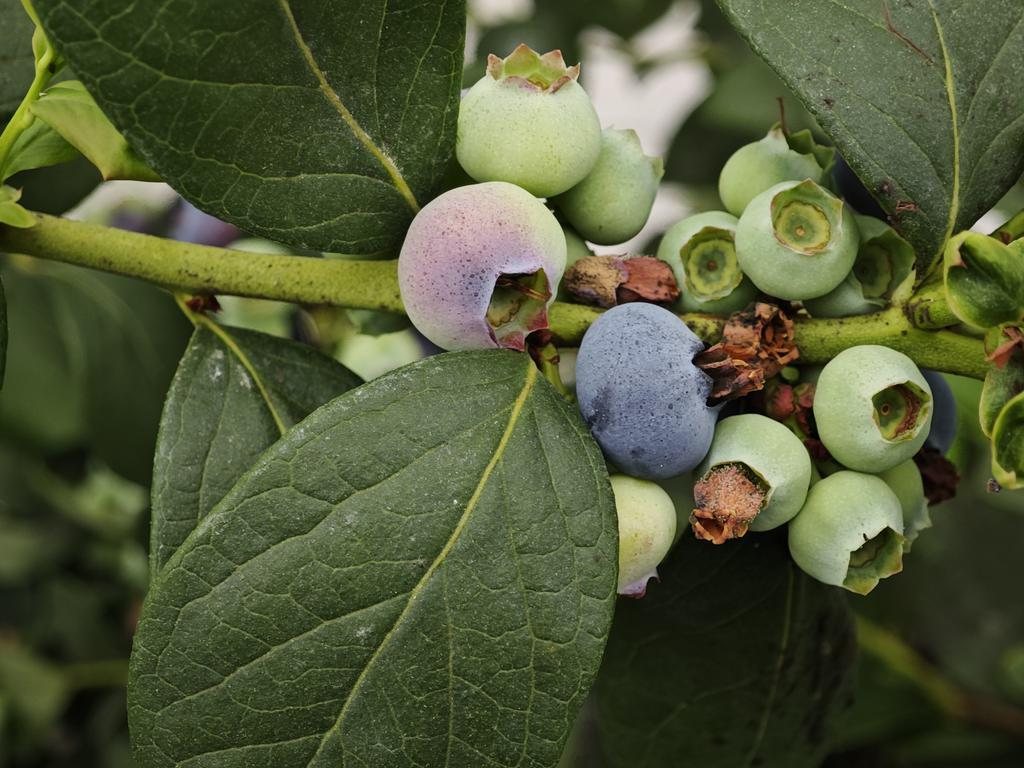RipeBlueBerry: (574, 303, 721, 478)
Semi-RipeBlueBerry: (395, 179, 571, 351)
